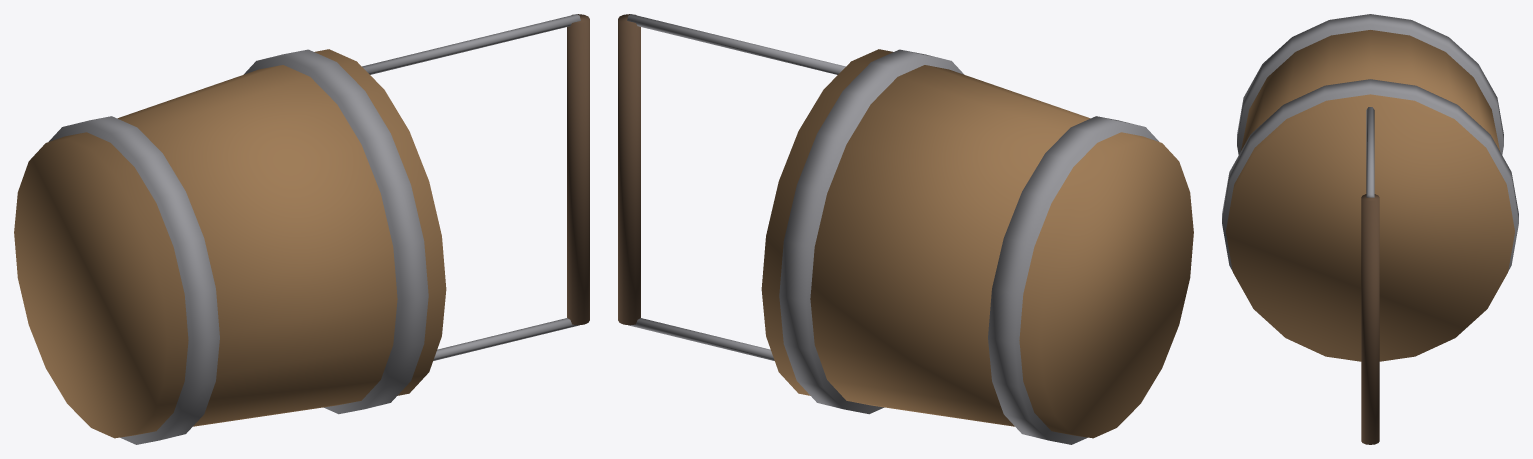
The model's file is eimer.glb.
3 renders of one model, left to right at view 1: azimuth 30°, elevation 25°; view 2: azimuth 150°, elevation 25°; view 3: azimuth 270°, elevation 25°, orthographic. The views are drawn at different scales.
Parts seen in each view (by area): view 1: Cone; view 2: Cone; view 3: Cone.
Part boxes in pixels (x1,y1,x2,y2): Cone: (14, 14, 589, 444); Cone: (618, 14, 1193, 444); Cone: (1222, 14, 1518, 444).
Bounding box in the file's own units: 0.449 × 0.2872 × 0.2872.
